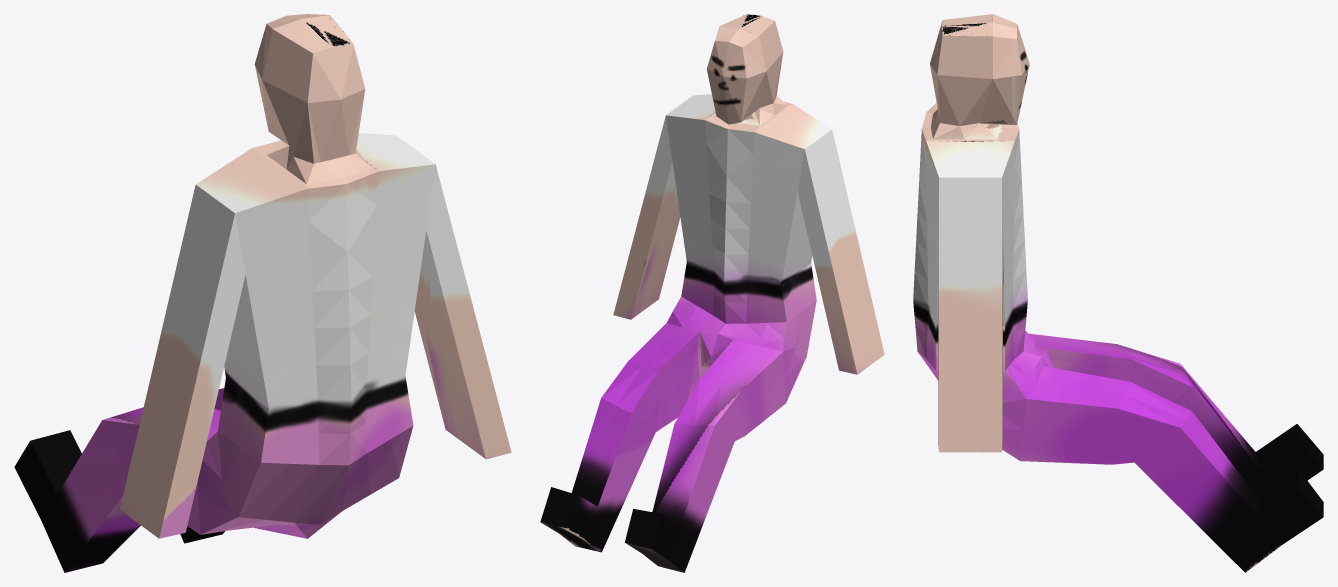
File: personsitting.obj
3 renders of one model, left to right at view 1: azimuth 30°, elevation 25°; view 2: azimuth 150°, elevation 25°; view 3: azimuth 270°, elevation 25°, orthographic. The views are drawn at different scales.
Visible parts, largest first — view 1: Cube; view 2: Cube; view 3: Cube.
Boxes of the visible parts, x1,y1,x2,y2 form: Cube: (14,14,511,572); Cube: (540,14,884,572); Cube: (913,14,1323,572).
Size of the model in its own units: 2.64 by 4.65 by 3.33.
